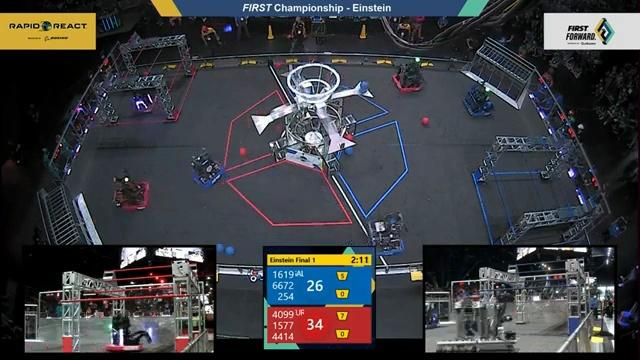robot: (359, 206, 411, 259), (104, 168, 155, 217), (181, 143, 227, 191), (454, 75, 496, 122), (384, 53, 429, 96), (104, 315, 145, 351), (125, 78, 158, 117), (425, 305, 439, 332)
